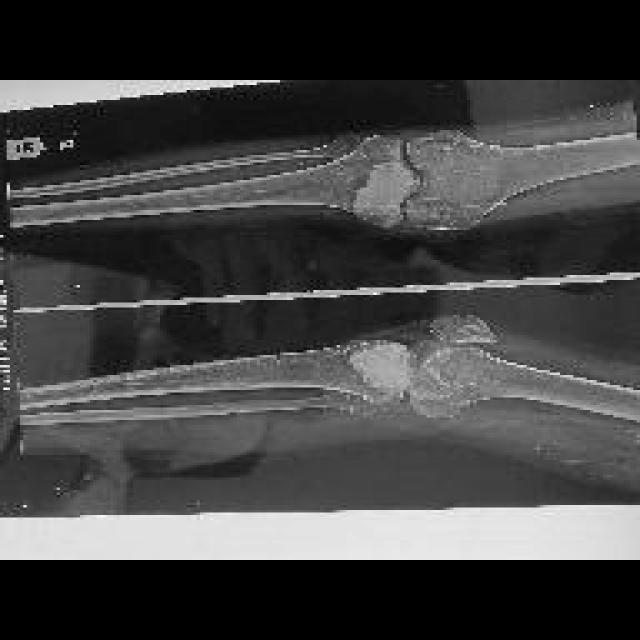bone-cancer: (353, 161, 417, 227), (348, 342, 407, 396)
